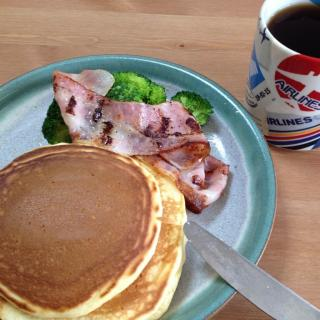Pancake: (0, 143, 159, 316)
